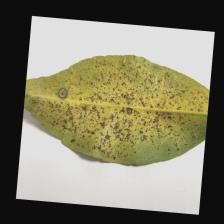canker: (48, 80, 199, 141)
